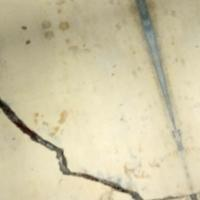crack: (1, 82, 158, 199)
